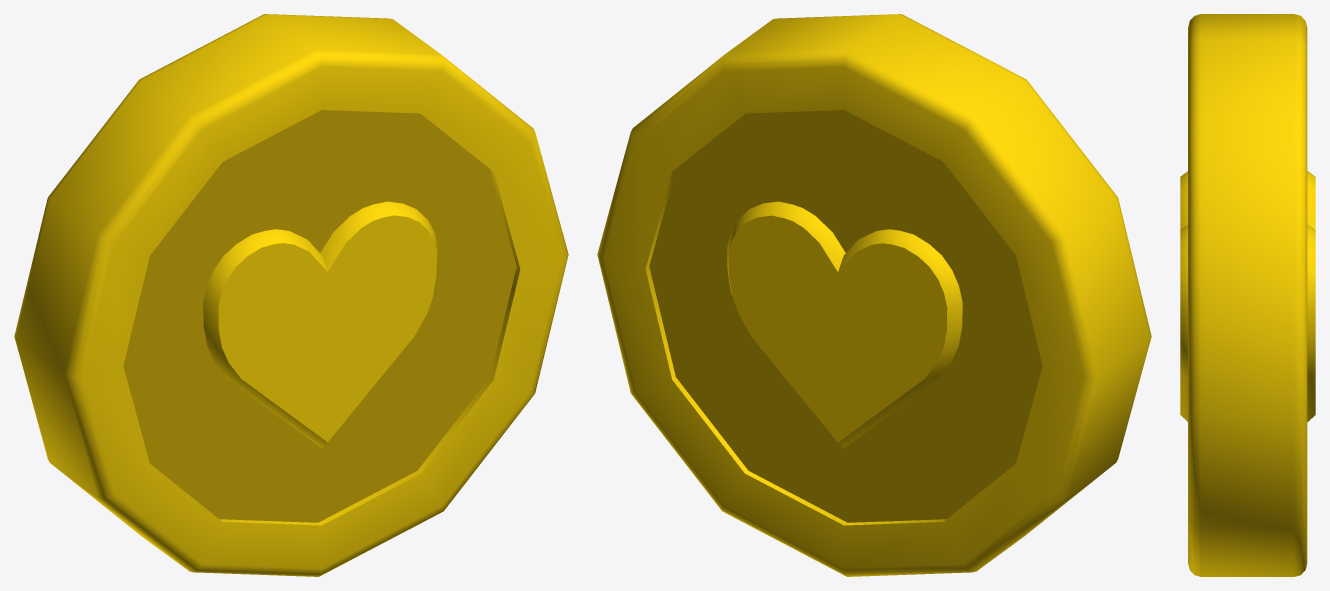
Rendered from Heart Coin.fbx.
The picture shows the model from 3 angles, left to right: view 1: azimuth 30°, elevation 25°; view 2: azimuth 150°, elevation 25°; view 3: azimuth 270°, elevation 25°; orthographic projection. The views are drawn at different scales.
Visible parts, largest first — view 1: Heart Coin; view 2: Heart Coin; view 3: Heart Coin.
Boxes of the visible parts, x1,y1,x2,y2 form: Heart Coin: (14,14,568,576); Heart Coin: (597,14,1151,576); Heart Coin: (1180,14,1315,576).
Size of the model in its own units: 0.2371 by 0.2371 by 0.0568.
